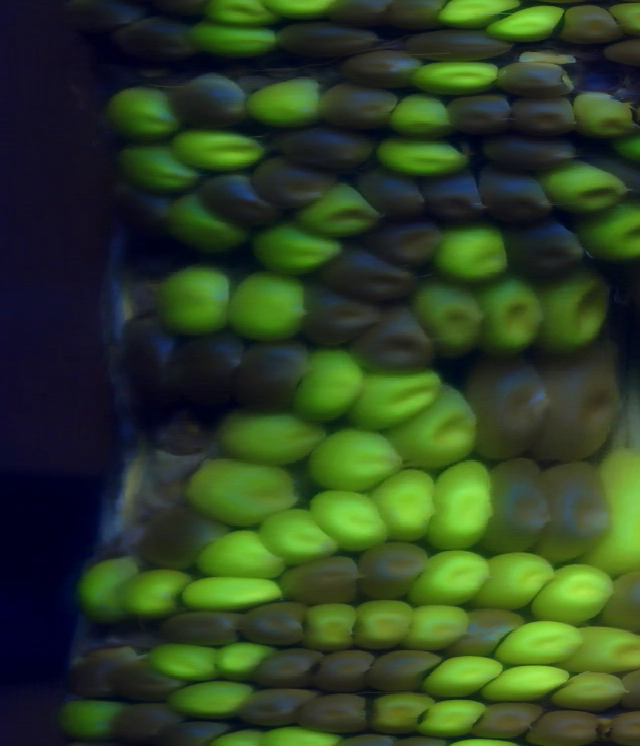fluorescent: (185, 457, 305, 524), (218, 403, 329, 464), (534, 268, 612, 354), (528, 565, 618, 633), (157, 272, 241, 343), (593, 451, 640, 575), (164, 189, 248, 257), (305, 491, 393, 555), (477, 279, 544, 362), (232, 269, 307, 342), (292, 347, 363, 423), (351, 371, 443, 428), (489, 617, 589, 668), (308, 427, 397, 484), (197, 538, 287, 592), (395, 398, 473, 460), (414, 286, 482, 355), (112, 142, 200, 195), (175, 129, 273, 176), (378, 473, 437, 551), (472, 553, 551, 610), (76, 561, 142, 627), (412, 549, 486, 607), (439, 221, 508, 283), (170, 675, 262, 721), (426, 651, 505, 704), (256, 226, 339, 275), (441, 467, 490, 549), (565, 624, 640, 677), (299, 189, 384, 235), (544, 165, 620, 216), (376, 134, 468, 176), (105, 84, 179, 136), (256, 507, 331, 558), (57, 693, 130, 742), (349, 600, 417, 649), (390, 87, 455, 138), (481, 664, 566, 703), (406, 603, 475, 650), (149, 641, 224, 684), (582, 205, 640, 260), (491, 3, 564, 46), (182, 580, 279, 612), (122, 569, 185, 618), (189, 25, 277, 58), (296, 602, 359, 648), (249, 84, 318, 125), (199, 1, 283, 34), (567, 96, 635, 135), (415, 63, 497, 94), (428, 1, 522, 26), (425, 699, 481, 737), (215, 645, 277, 677), (261, 724, 349, 746), (263, 1, 336, 17)
nonfluorescent: (467, 345, 550, 465), (543, 344, 617, 461), (481, 451, 556, 558), (544, 465, 616, 563), (168, 332, 250, 405), (111, 322, 169, 424), (496, 221, 590, 283), (146, 507, 228, 573), (318, 248, 418, 301), (298, 286, 382, 348), (410, 167, 489, 230), (355, 164, 433, 226), (356, 544, 435, 603), (203, 179, 288, 232), (277, 127, 377, 172), (353, 313, 437, 365), (110, 22, 199, 71), (475, 171, 555, 224), (239, 344, 302, 411), (370, 223, 451, 273), (274, 18, 391, 52), (251, 161, 339, 206), (281, 562, 365, 609), (454, 609, 528, 661), (239, 600, 311, 651), (365, 650, 445, 695), (407, 31, 517, 63), (163, 609, 247, 650), (177, 82, 256, 125), (325, 81, 402, 123), (115, 177, 167, 239), (492, 135, 579, 168), (75, 653, 136, 699), (508, 100, 582, 137), (115, 657, 181, 698), (238, 692, 306, 730), (597, 571, 640, 629), (258, 649, 316, 692), (307, 691, 371, 729), (450, 97, 513, 135), (314, 651, 377, 689), (499, 59, 570, 92), (119, 703, 181, 739), (536, 709, 601, 743), (558, 8, 624, 41), (348, 51, 423, 80), (481, 702, 535, 742), (378, 1, 453, 27), (334, 1, 395, 24), (600, 35, 640, 67)
